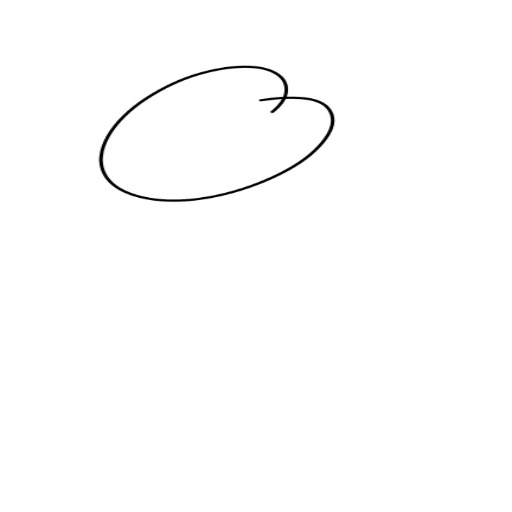circle: (97, 61, 336, 206)
